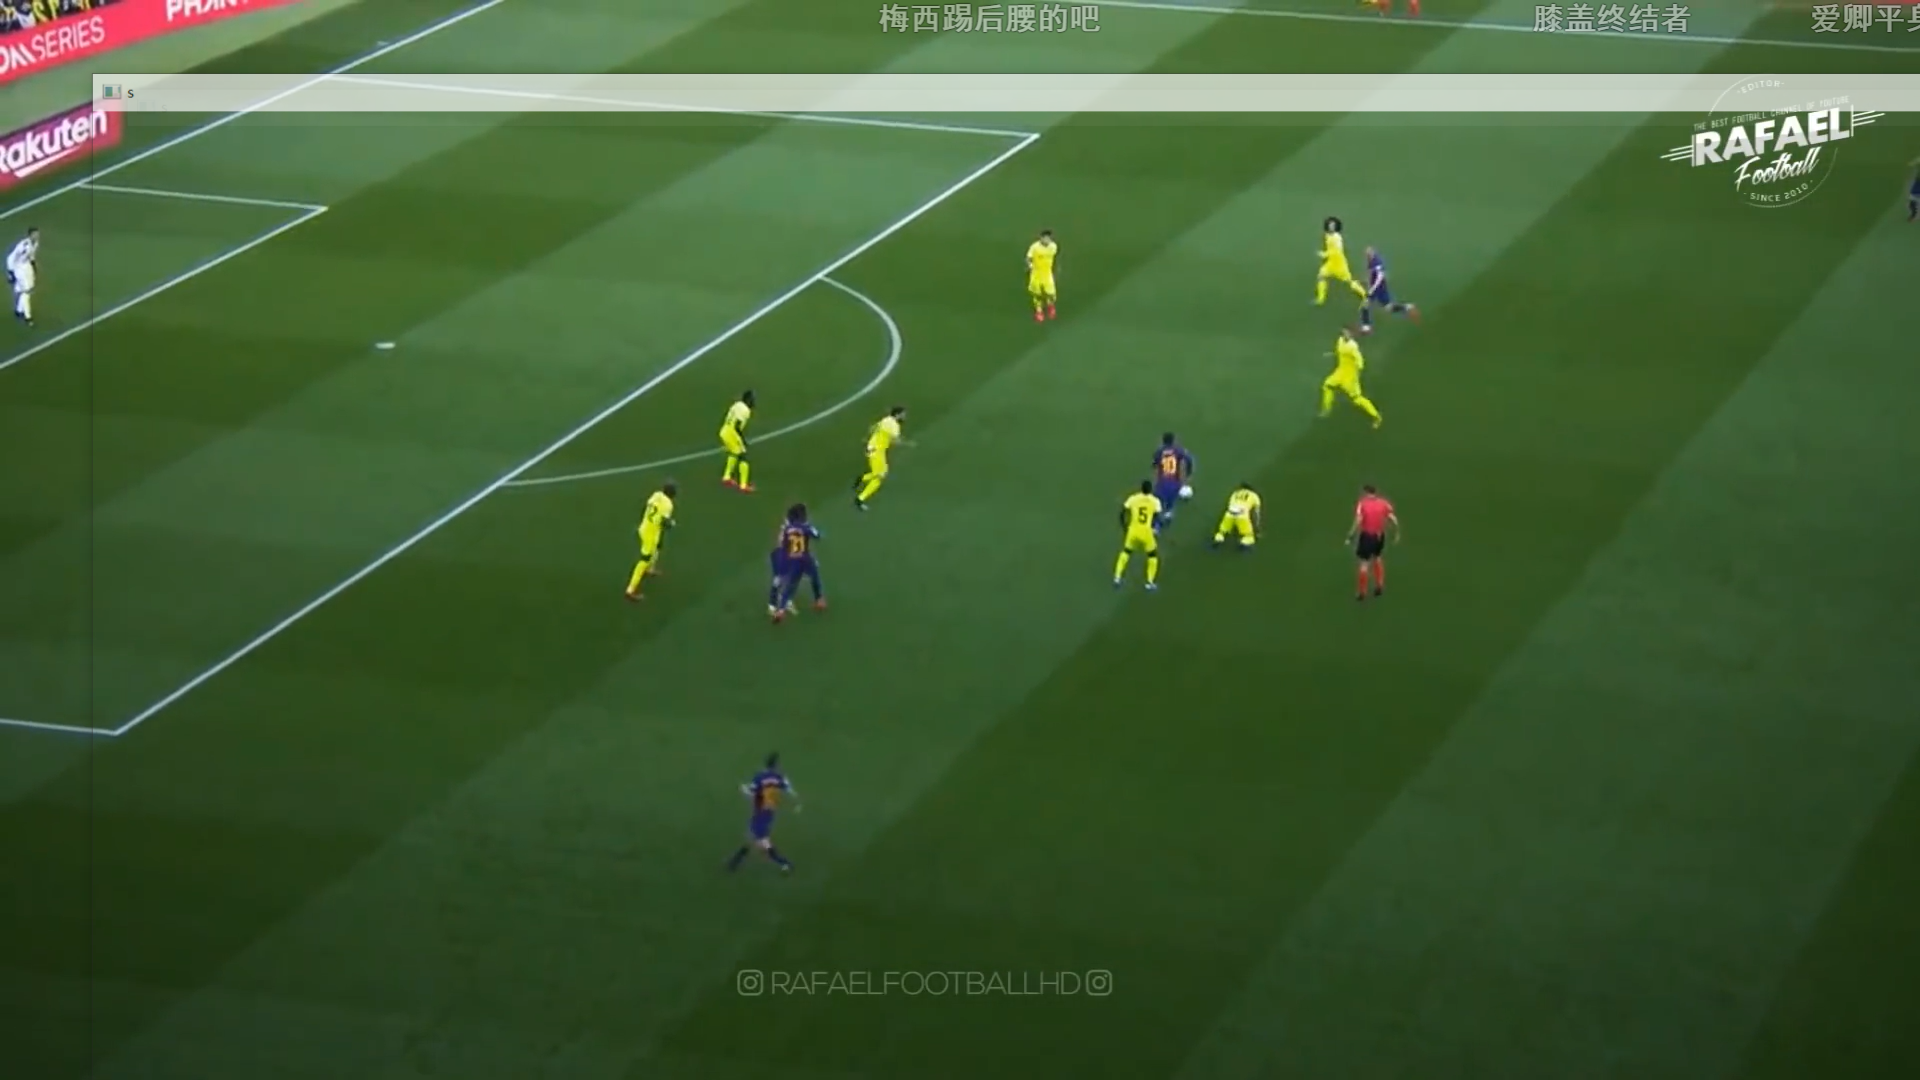ft: (1178, 483, 1195, 502)
